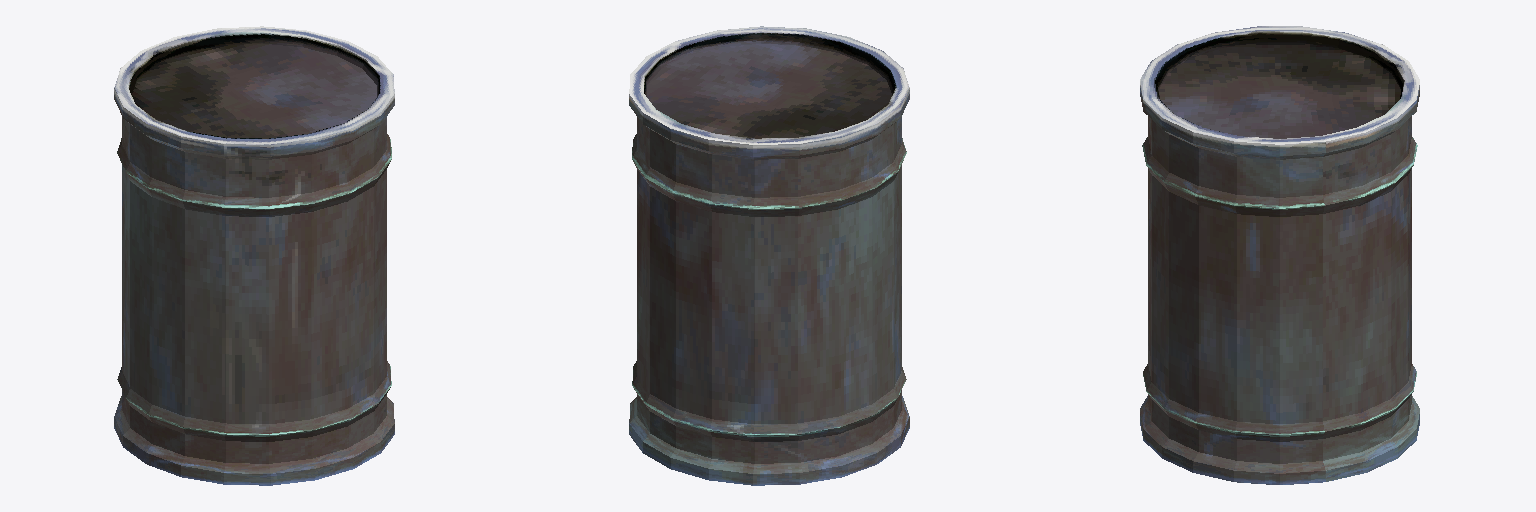
3 renders of one model, left to right at view 1: azimuth 30°, elevation 25°; view 2: azimuth 150°, elevation 25°; view 3: azimuth 270°, elevation 25°, orthographic.
Parts seen in each view (by area): view 1: pCylinder1; view 2: pCylinder1; view 3: pCylinder1.
Boxes of the visible parts, x1,y1,x2,y2 form: pCylinder1: [114, 26, 394, 485]; pCylinder1: [629, 26, 909, 485]; pCylinder1: [1140, 26, 1419, 484].
Bounding box in the file's own units: 0.5959 × 0.8 × 0.5979.
Materials: 1 (1 with a texture image).